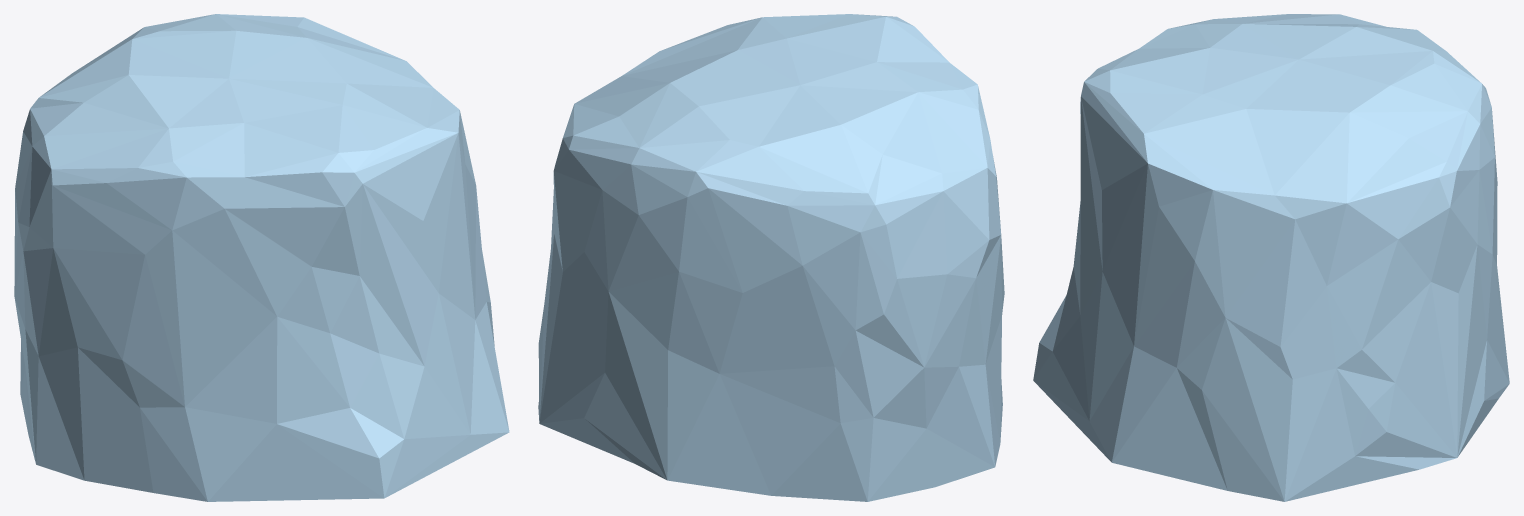
File: PROP_Ice_FloorB03.FBX
The picture shows the model from 3 angles, left to right: view 1: azimuth 30°, elevation 25°; view 2: azimuth 150°, elevation 25°; view 3: azimuth 270°, elevation 25°; orthographic projection. The views are drawn at different scales.
Parts seen in each view (by area): view 1: PROP_Ice_FloorB03; view 2: PROP_Ice_FloorB03; view 3: PROP_Ice_FloorB03.
Part boxes in pixels (x1,y1,x2,y2): PROP_Ice_FloorB03: (14,14,509,501); PROP_Ice_FloorB03: (538,14,1004,501); PROP_Ice_FloorB03: (1033,14,1509,501).
Bounding box in the file's own units: 1076 × 776 × 1022.
Materials: 1 (1 with a texture image).
